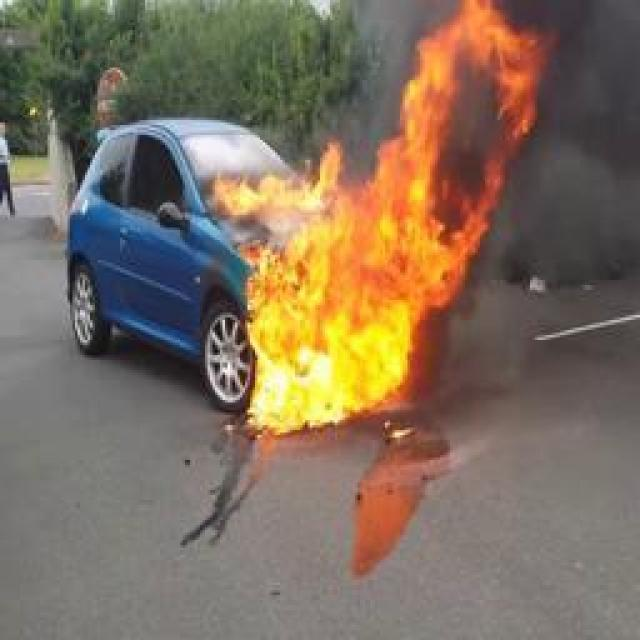Fire: (211, 0, 556, 432)
